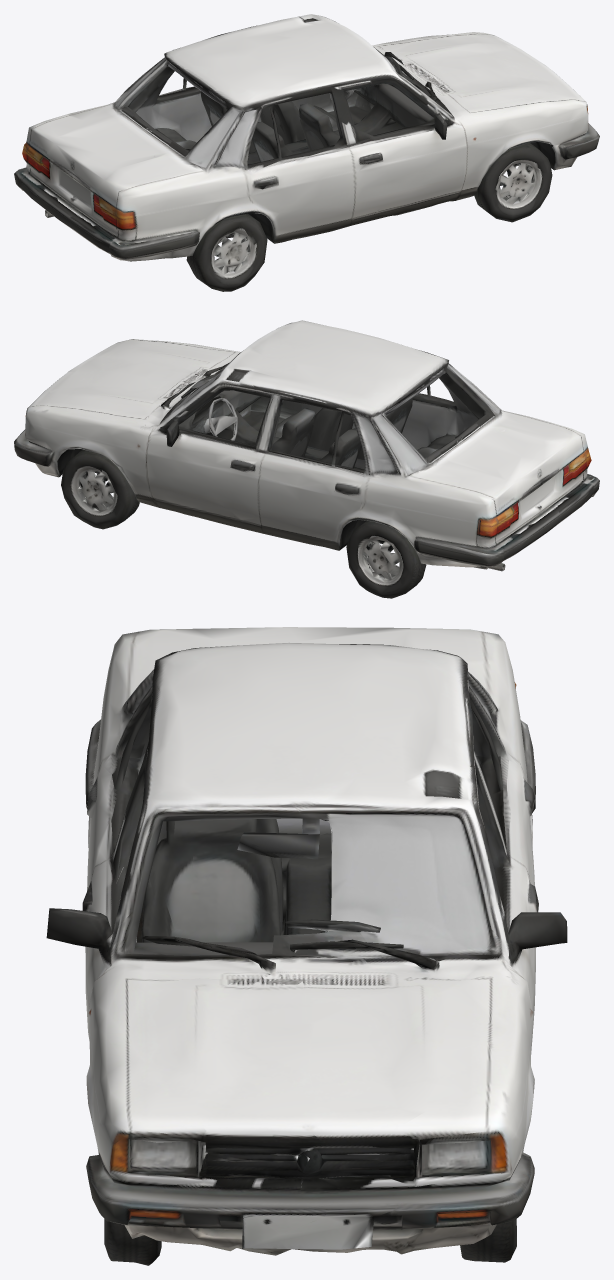
3 views of the same model, one above another, from view 1: azimuth 30°, elevation 25°; view 2: azimuth 150°, elevation 25°; view 3: azimuth 270°, elevation 25° (orthographic). The views are drawn at different scales.
Parts seen in each view (by area): view 1: tripo_node_6a93f170-7334-46cd-ba12-a22acb89228a; view 2: tripo_node_6a93f170-7334-46cd-ba12-a22acb89228a; view 3: tripo_node_6a93f170-7334-46cd-ba12-a22acb89228a.
Part boxes in pixels (<box>): tripo_node_6a93f170-7334-46cd-ba12-a22acb89228a: <box>14,14,599,291</box>; tripo_node_6a93f170-7334-46cd-ba12-a22acb89228a: <box>14,320,599,598</box>; tripo_node_6a93f170-7334-46cd-ba12-a22acb89228a: <box>46,627,567,1265</box>.
Bounding box in the file's own units: 1 × 0.3454 × 0.4537.
Materials: 1 (1 with a texture image).
